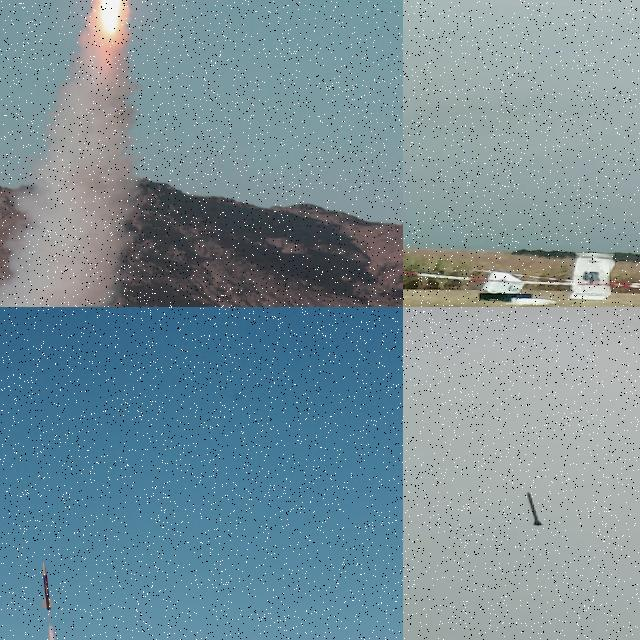Rocket: (526, 492, 546, 526), (41, 562, 53, 612)
